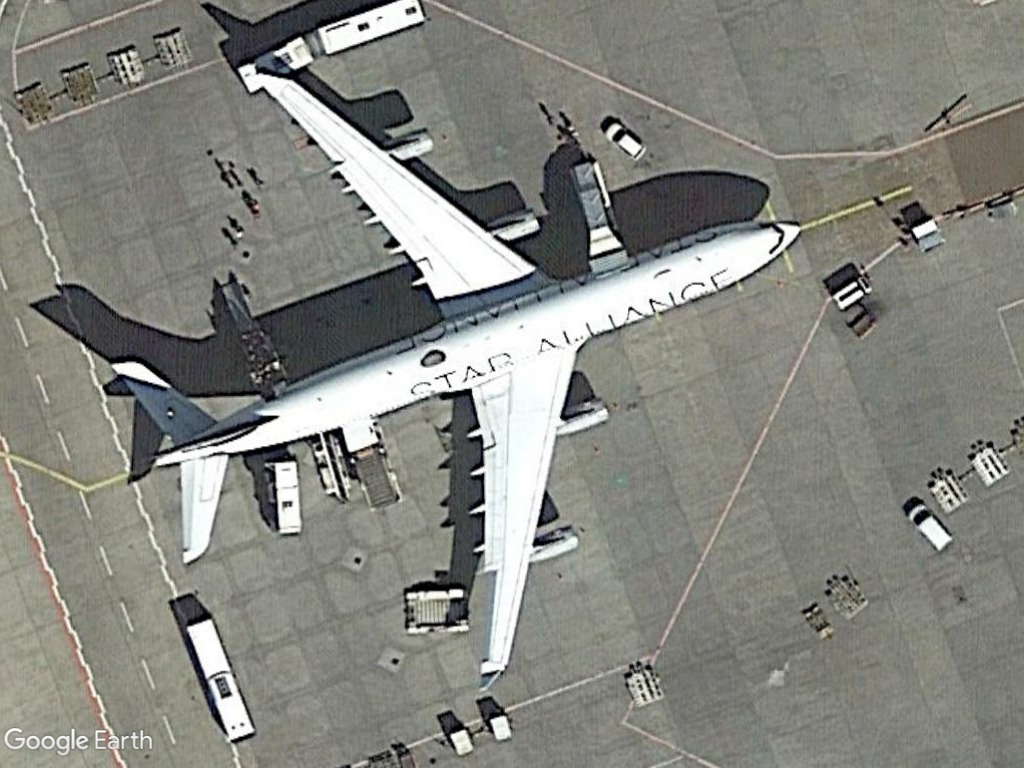airliner: (89, 56, 817, 689)
bus: (176, 608, 264, 747)
van: (893, 491, 961, 559), (595, 109, 656, 168)
